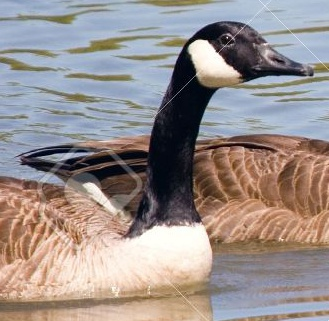goose: (1, 10, 318, 305)
